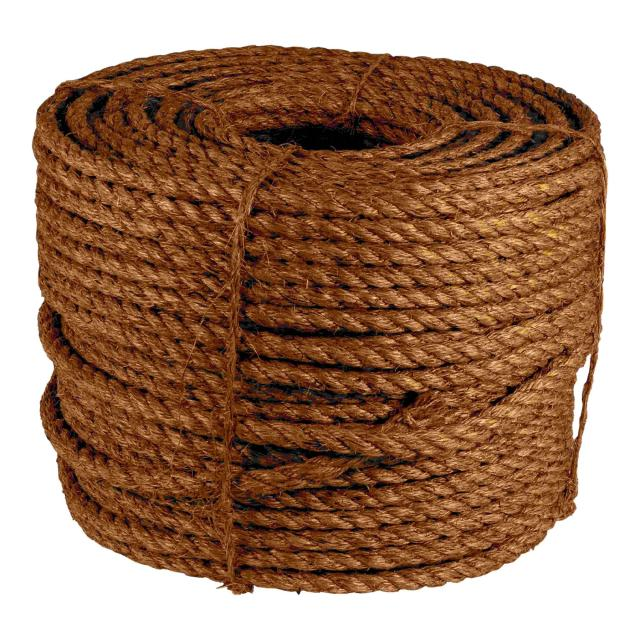Rope: (26, 31, 614, 593)
